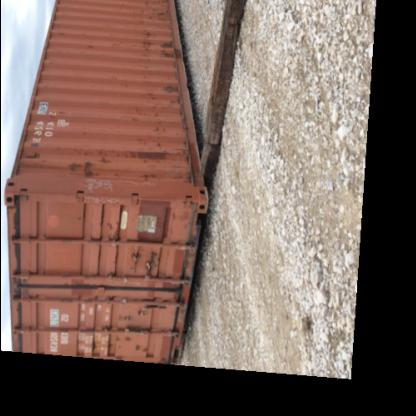Damage: (114, 136, 174, 172), (60, 150, 98, 192), (144, 271, 182, 308), (146, 78, 180, 110), (144, 40, 186, 62), (137, 0, 166, 29), (162, 207, 193, 234), (136, 170, 164, 191)
